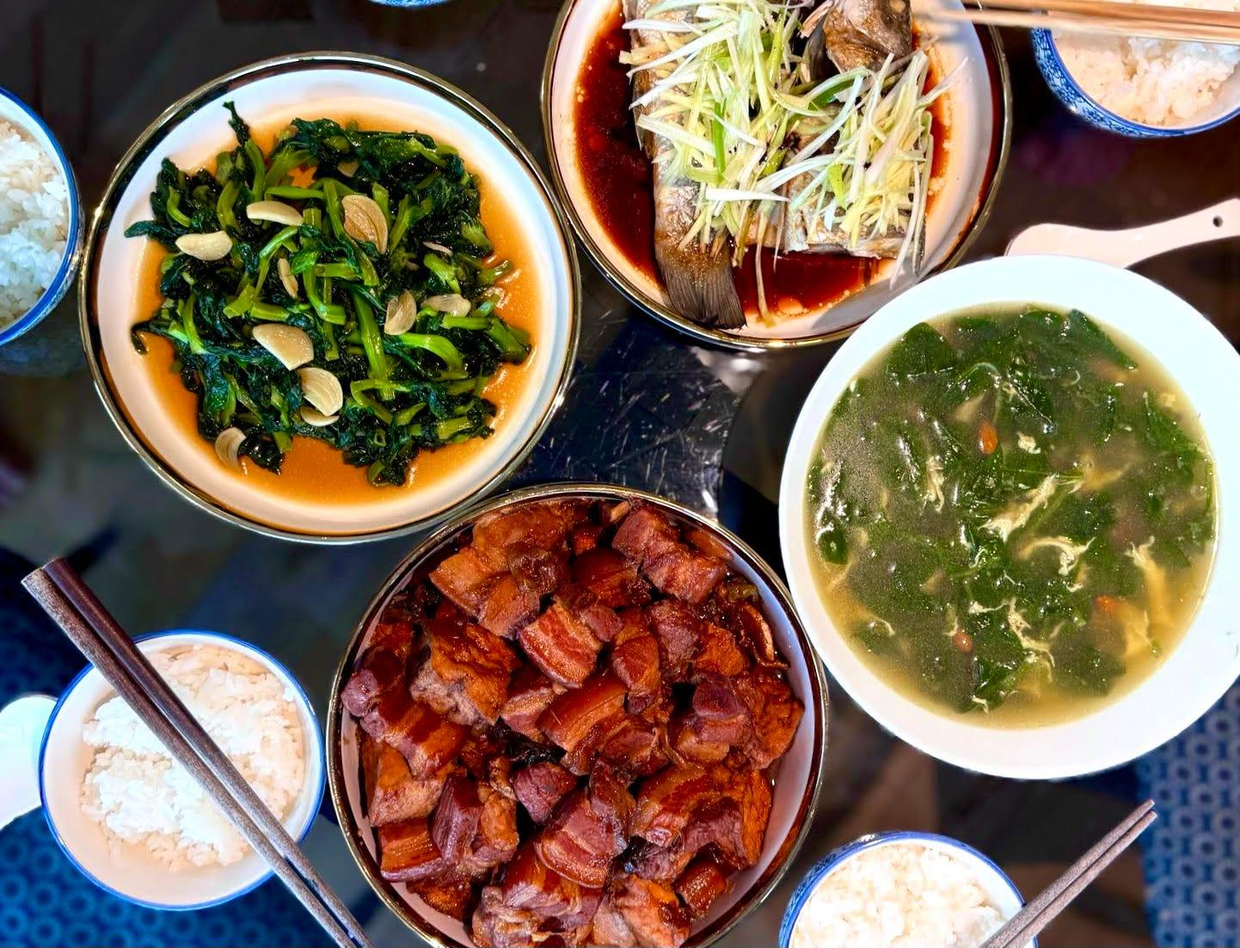Braised Crucian Carp: (777, 255, 1240, 772), (78, 52, 565, 534), (319, 492, 781, 938), (581, 0, 981, 359)
